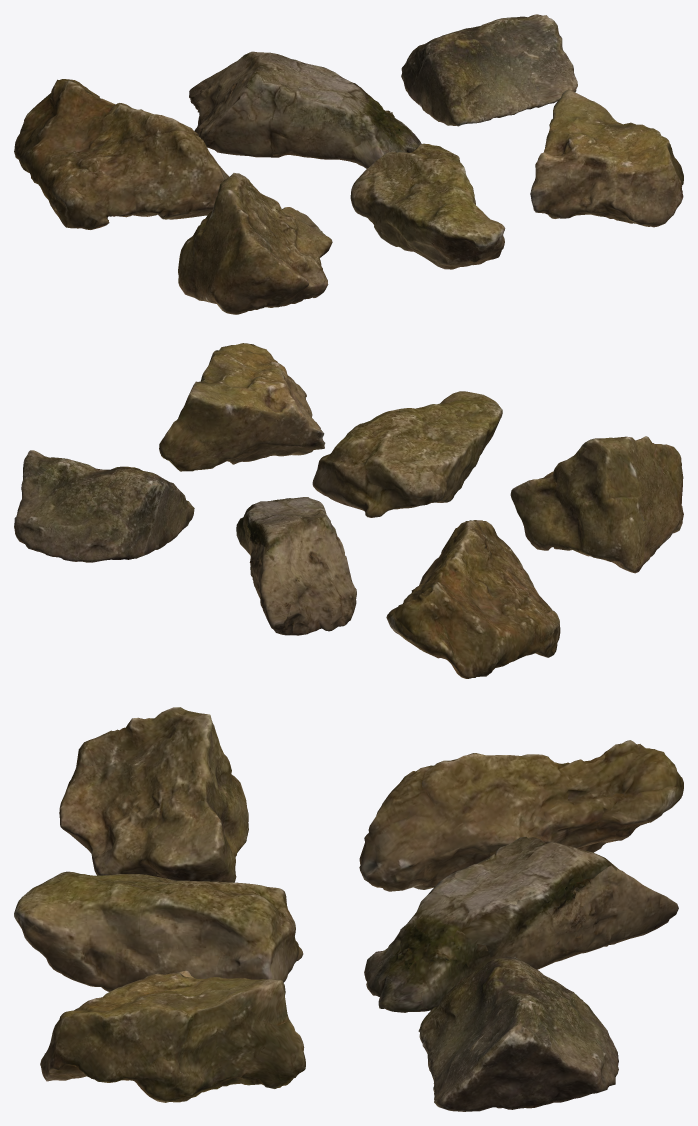
Rendered from rock_moss_set_01.glb.
3 renders of one model, top to bottom at view 1: azimuth 30°, elevation 25°; view 2: azimuth 150°, elevation 25°; view 3: azimuth 270°, elevation 25°, orthographic. The views are drawn at different scales.
Visible parts, largest first — view 1: rock_moss_set_01_rock01, rock_moss_set_01_rock02, rock_moss_set_01_rock06, rock_moss_set_01_rock04, rock_moss_set_01_rock03, rock_moss_set_01_rock05; view 2: rock_moss_set_01_rock04, rock_moss_set_01_rock01, rock_moss_set_01_rock05, rock_moss_set_01_rock03, rock_moss_set_01_rock06, rock_moss_set_01_rock02; view 3: rock_moss_set_01_rock01, rock_moss_set_01_rock02, rock_moss_set_01_rock05, rock_moss_set_01_rock06, rock_moss_set_01_rock04, rock_moss_set_01_rock03.
Boxes of the visible parts, x1=… form: rock_moss_set_01_rock01: x1=14, y1=79, x2=229, y2=229; rock_moss_set_01_rock02: x1=189, y1=51, x2=421, y2=168; rock_moss_set_01_rock06: x1=530, y1=89, x2=683, y2=227; rock_moss_set_01_rock04: x1=178, y1=173, x2=332, y2=314; rock_moss_set_01_rock03: x1=401, y1=14, x2=577, y2=126; rock_moss_set_01_rock05: x1=350, y1=143, x2=505, y2=269; rock_moss_set_01_rock04: x1=510, y1=436, x2=683, y2=573; rock_moss_set_01_rock01: x1=386, y1=520, x2=560, y2=678; rock_moss_set_01_rock05: x1=312, y1=391, x2=502, y2=517; rock_moss_set_01_rock03: x1=14, y1=450, x2=194, y2=562; rock_moss_set_01_rock06: x1=159, y1=343, x2=325, y2=471; rock_moss_set_01_rock02: x1=236, y1=497, x2=356, y2=635; rock_moss_set_01_rock01: x1=359, y1=740, x2=683, y2=891; rock_moss_set_01_rock02: x1=364, y1=836, x2=678, y2=1012; rock_moss_set_01_rock05: x1=14, y1=871, x2=303, y2=991; rock_moss_set_01_rock06: x1=40, y1=970, x2=305, y2=1102; rock_moss_set_01_rock04: x1=59, y1=707, x2=248, y2=882; rock_moss_set_01_rock03: x1=418, y1=956, x2=618, y2=1111.
Bounding box in the file's own units: 8 × 1.77 × 6.94.
Materials: 1 (1 with a texture image).
